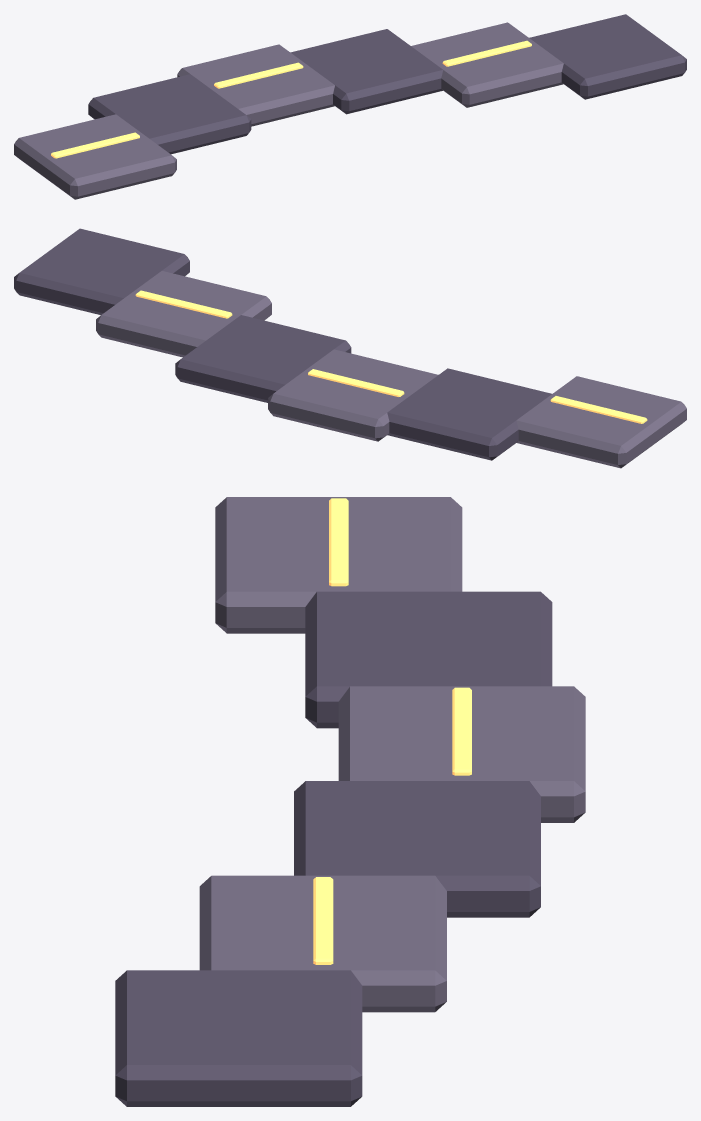
The model's file is ember_cooled_flow.glb.
3 views of the same model, one above another, from view 1: azimuth 30°, elevation 25°; view 2: azimuth 150°, elevation 25°; view 3: azimuth 270°, elevation 25° (orthographic). The views are drawn at different scales.
Parts seen in each view (by area): view 1: ember_cooled_flow.001; view 2: ember_cooled_flow.001; view 3: ember_cooled_flow.001.
Boxes of the visible parts, x1=… form: ember_cooled_flow.001: x1=14, y1=14, x2=686, y2=199; ember_cooled_flow.001: x1=14, y1=228, x2=686, y2=468; ember_cooled_flow.001: x1=115, y1=497, x2=585, y2=1106.
Bounding box in the file's own units: 8.3 × 0.315 × 2.86.
